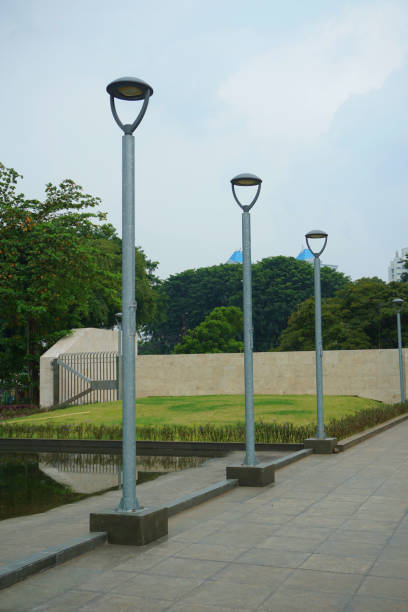light_pole: (117, 136, 141, 507), (239, 213, 258, 464), (311, 262, 326, 437)
